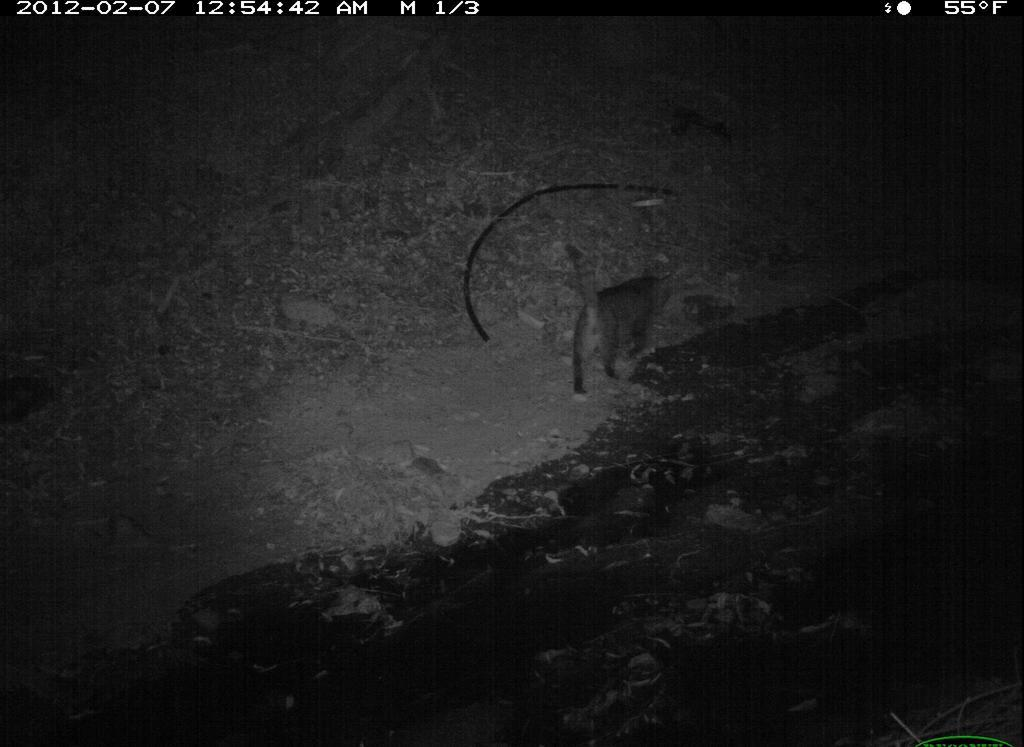cat: (553, 227, 681, 404)
